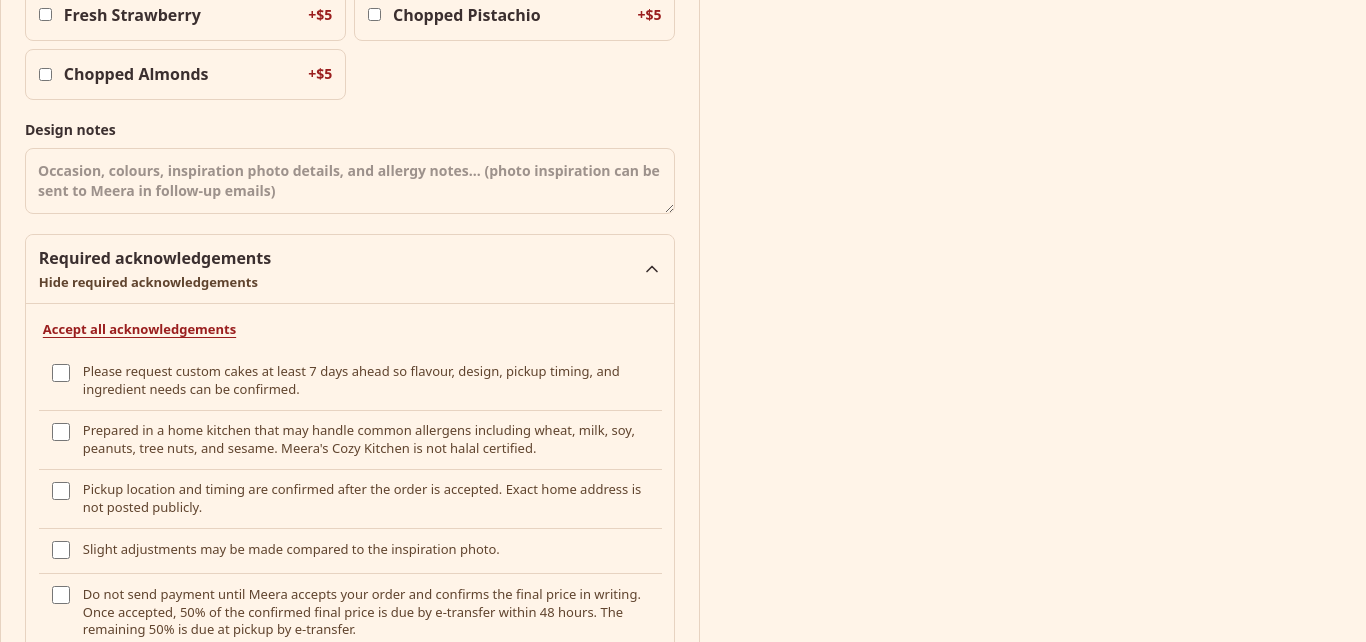
Test: OrderForm cake-only flow › accepts all terms at once, preserves them while folded, and re-enables after one is unchecked
(page scrolled)
Click the button "Accept all acknowledgements". click: [140, 330]
box: [39,308,240,352]
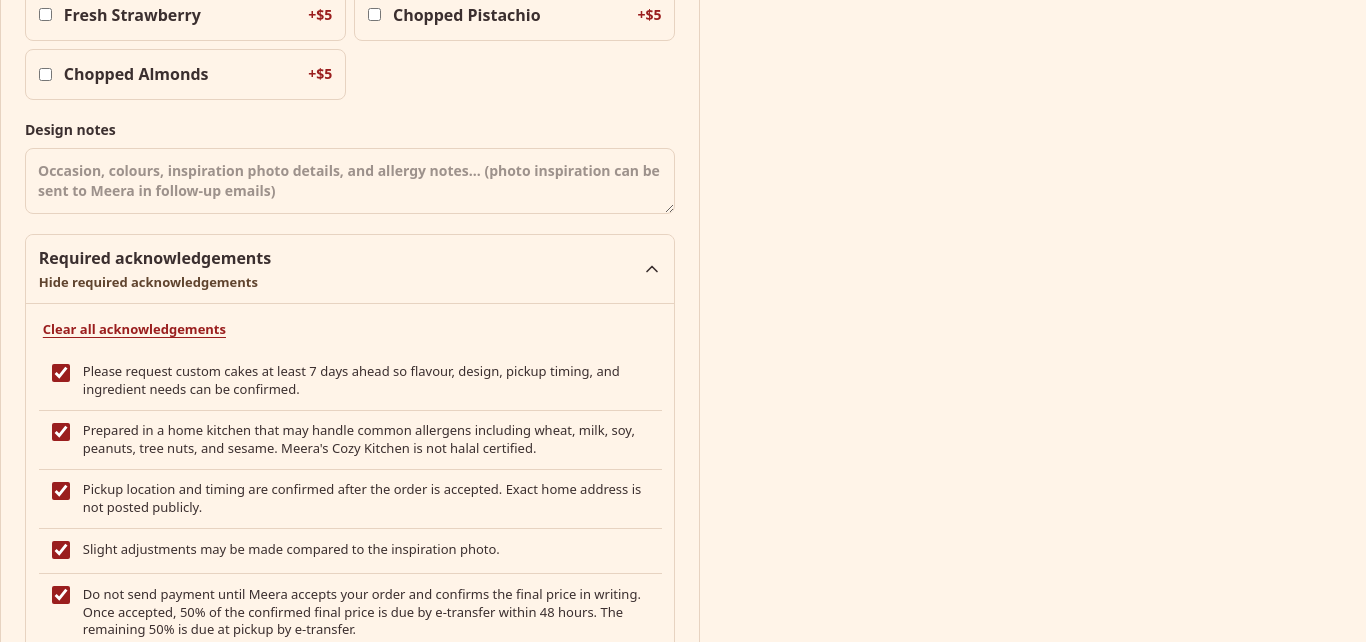
Check: the checkbox named "Please request custom cakes at least 7 days ahead so flavour, design, pickup timing, and ingredient needs can be confirm" is checked, box [52,364,70,382]
Check: the checkbox named "Prepared in a home kitchen that may handle common allergens including wheat, milk, soy, peanuts, tree nuts, and sesame. " is checked, box [52,423,70,441]
Check: the checkbox named "Pickup location and timing are confirmed after the order is accepted. Exact home address is not posted publicly." is checked, box [52,482,70,500]
Click the button "Required acknowledgements Hide required acknowledgements". click: [155, 258]
box: [26,235,674,304]
(page scrolled)
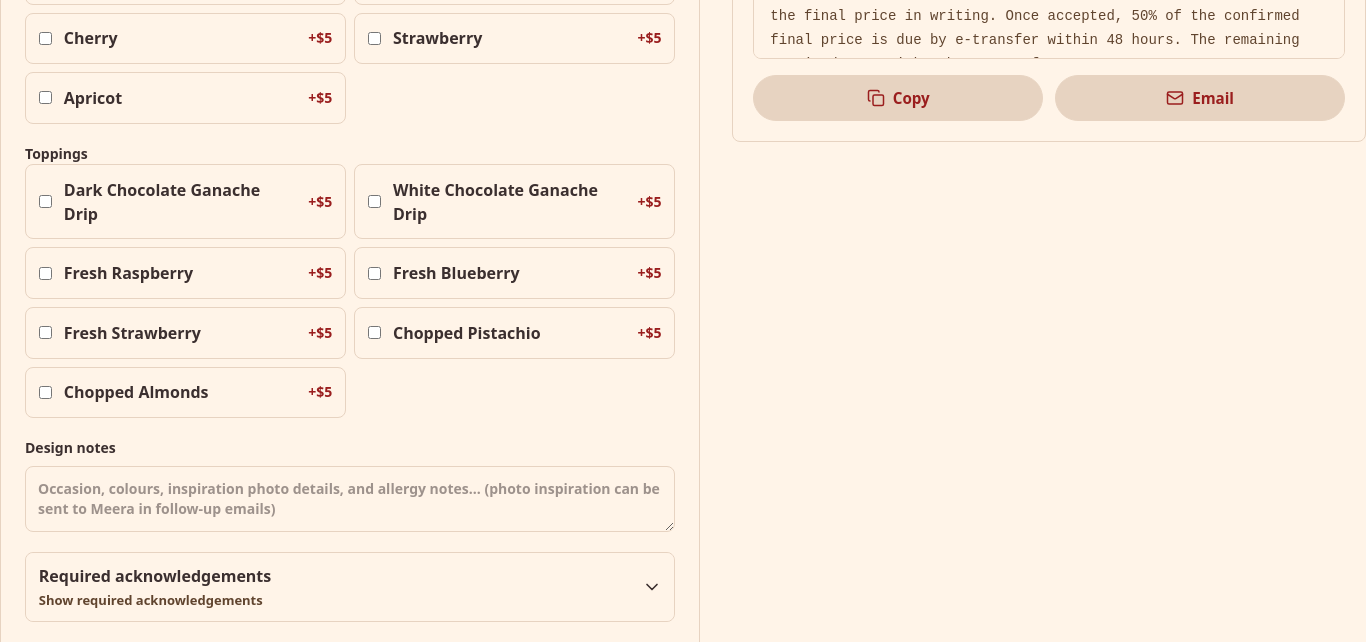
Check: the button "Required acknowledgements Show required acknowledgements" is collapsed
Click the button "Required acknowledgements Show required acknowledgements". click: [155, 576]
box: [26,553,674,621]
(page scrolled)
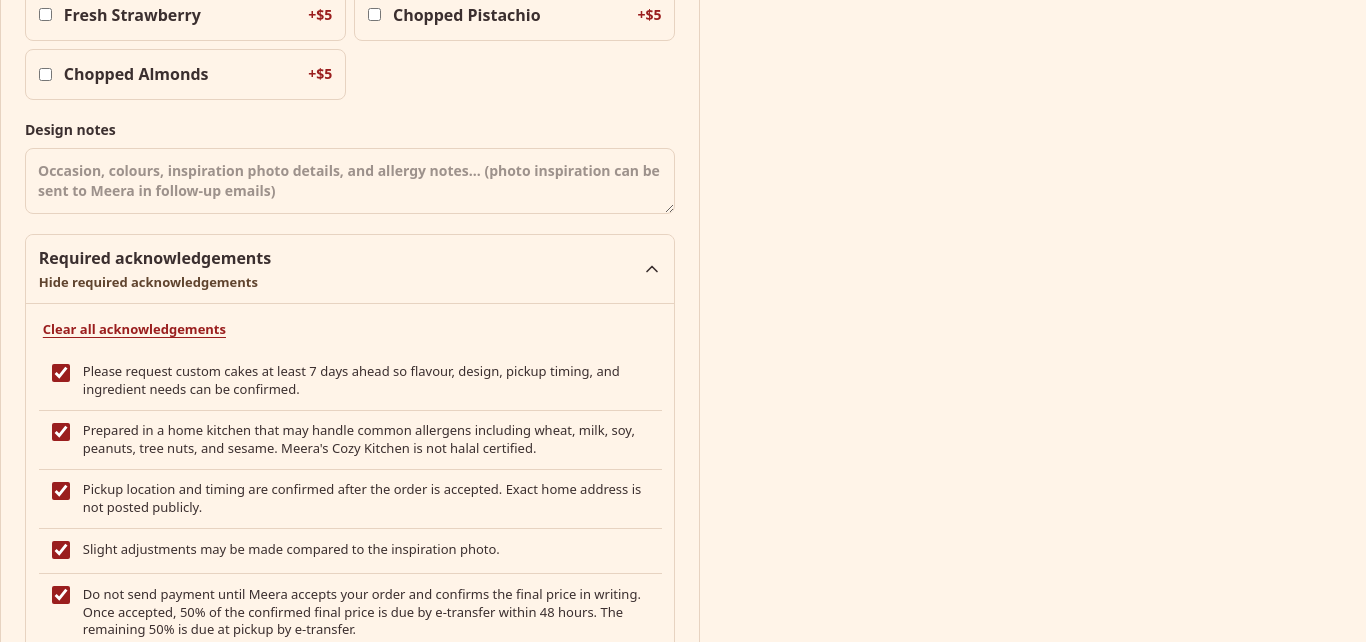
Click the checkbox named "Do not send payment until Meera accepts your order and confirms the final price in writing. Once accepted, 50% of the co". click: [61, 595]
box: [52,586,70,604]
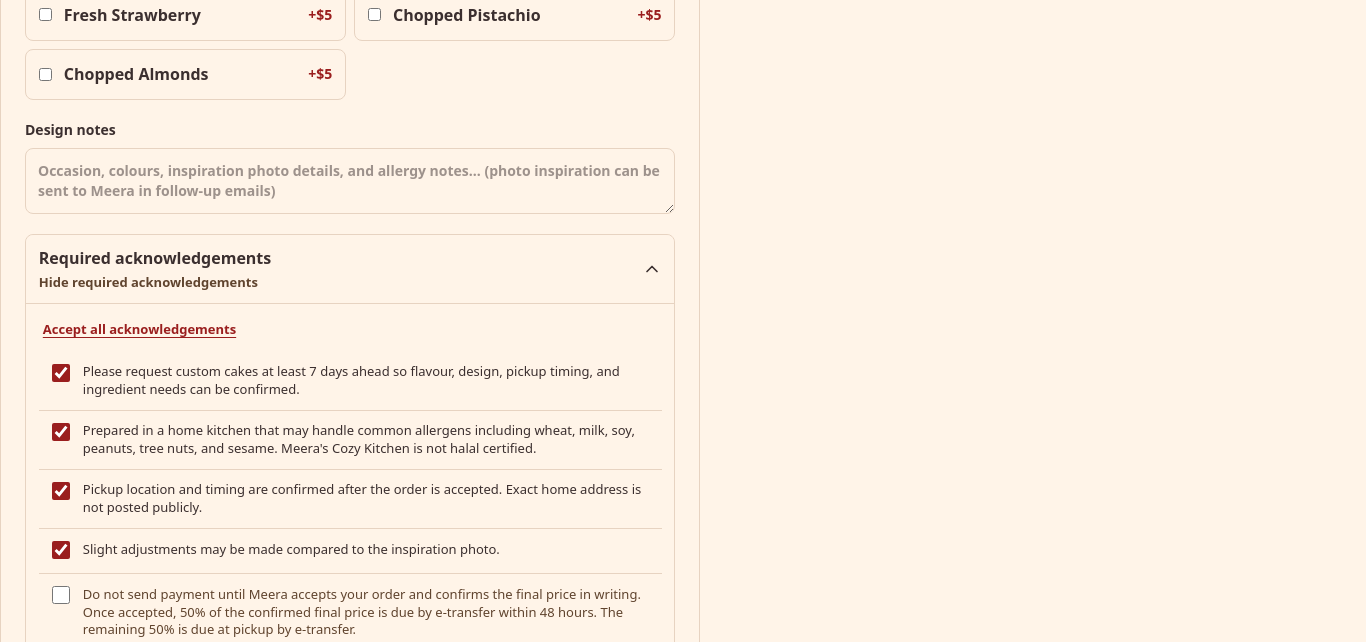
Check: the checkbox named "Do not send payment until Meera accepts your order and confirms the final price in writing. Once accepted, 50% of the co" is not checked, box [52,586,70,604]
Check: the checkbox named "Please request custom cakes at least 7 days ahead so flavour, design, pickup timing, and ingredient needs can be confirm" is checked, box [52,364,70,382]
Check: the button "Accept all acknowledgements" is enabled
Click the button "Accept all acknowledgements". click: [140, 330]
box: [39,308,240,352]
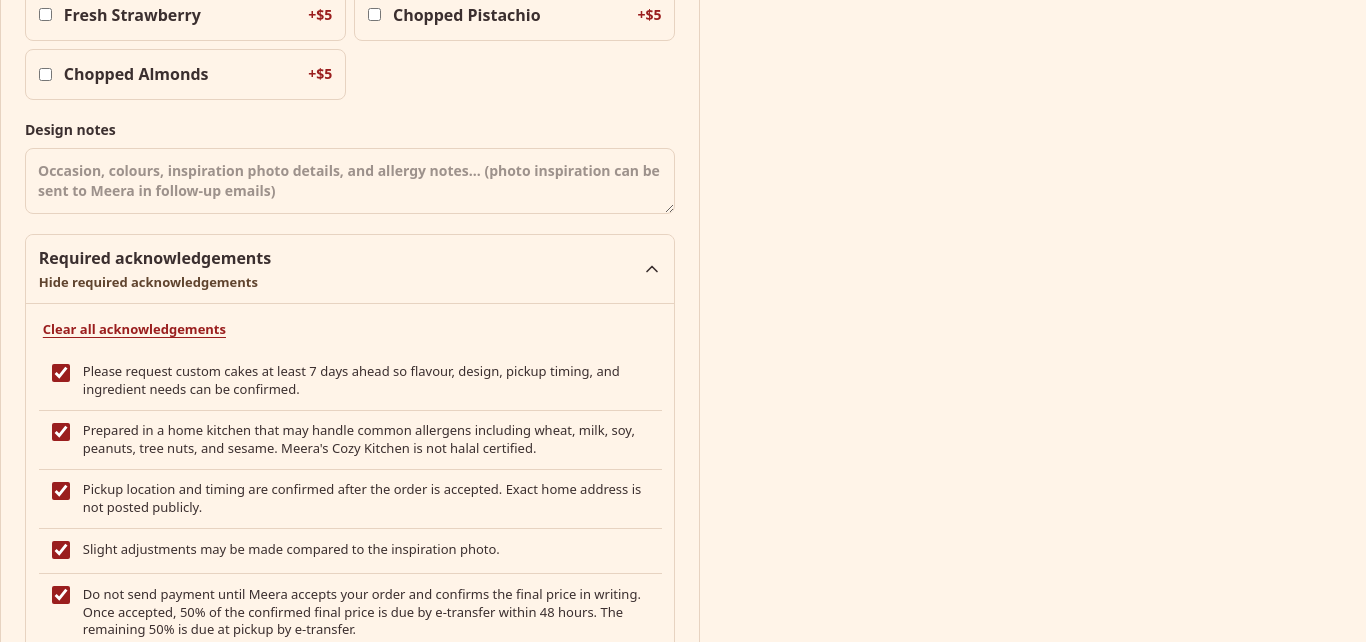
Click the button "Clear all acknowledgements". click: [134, 330]
box: [39,308,230,352]
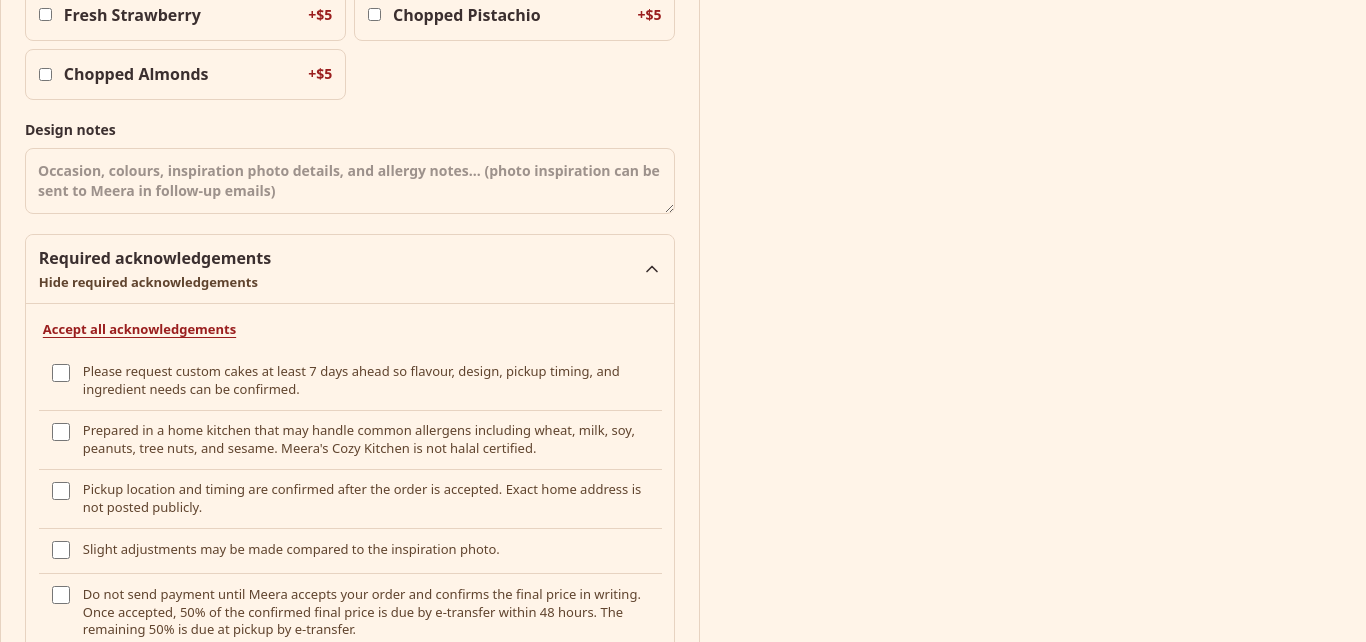
Check: the checkbox named "Do not send payment until Meera accepts your order and confirms the final price in writing. Once accepted, 50% of the co" is not checked, box [52,586,70,604]
Check: the checkbox named "Please request custom cakes at least 7 days ahead so flavour, design, pickup timing, and ingredient needs can be confirm" is not checked, box [52,364,70,382]
